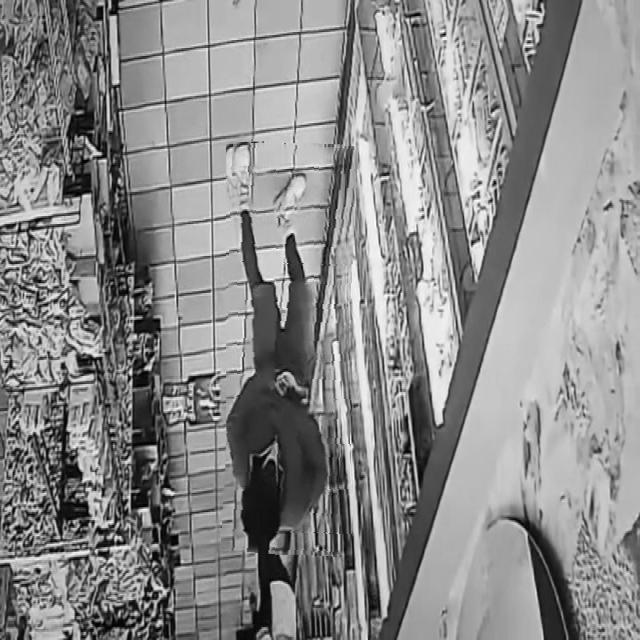Shoplifting: (226, 142, 353, 555)
